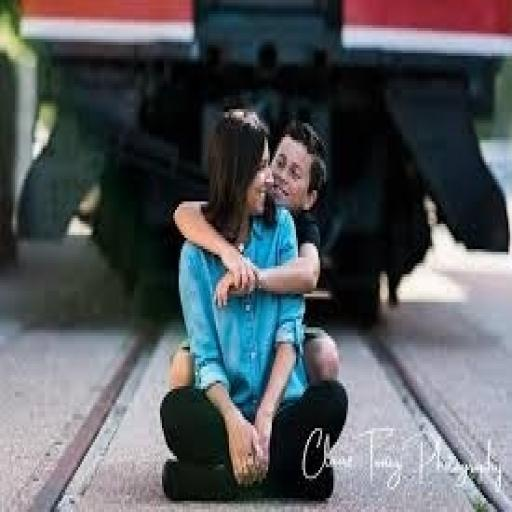hugging: (158, 106, 350, 504)
